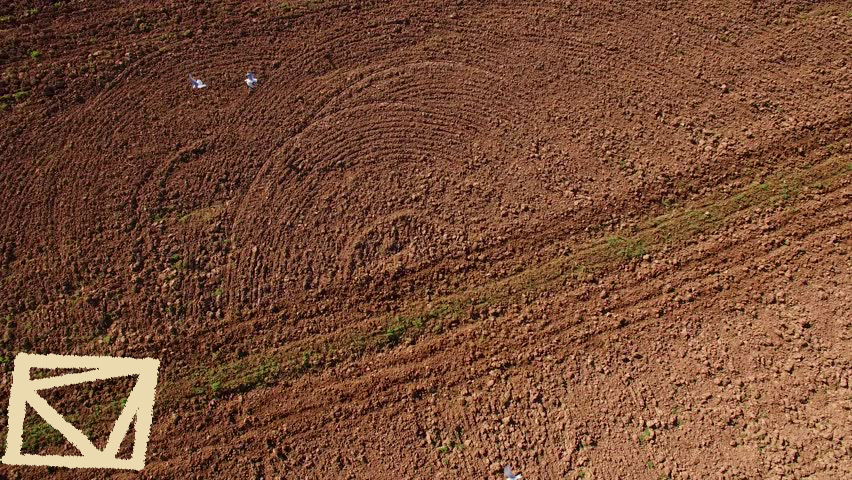marker: (1, 345, 168, 473)
